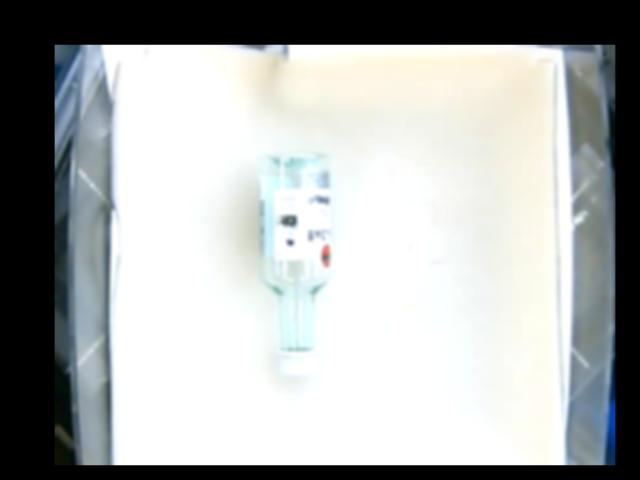Bottle: (259, 151, 331, 376)
